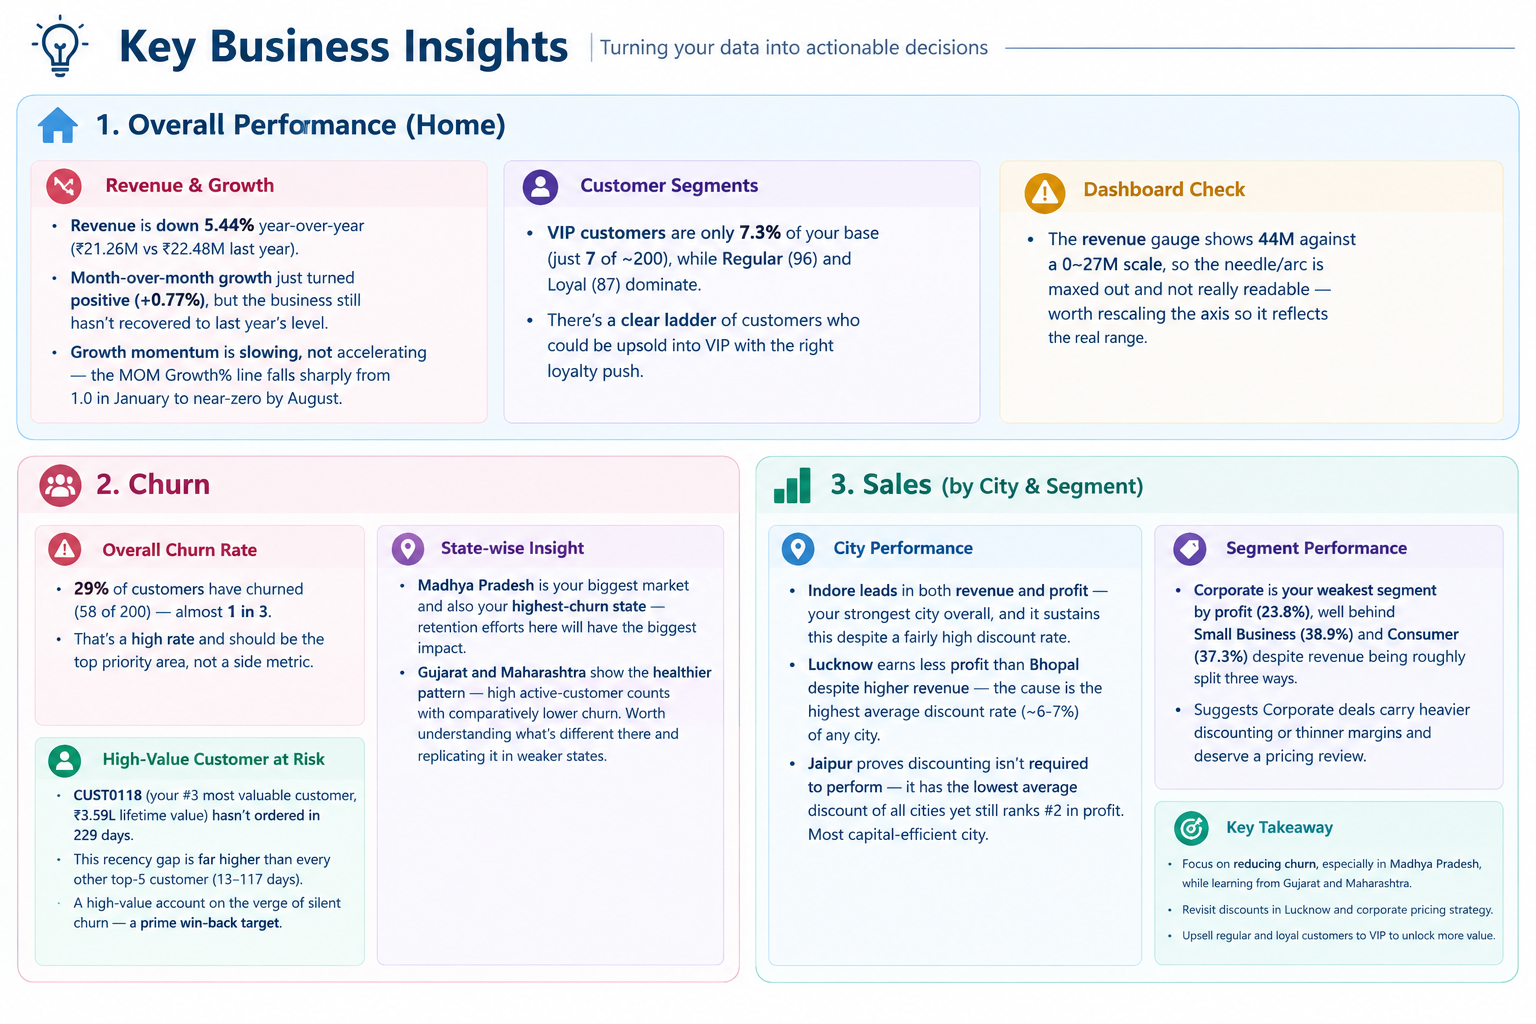

This screenshot's page, from the dashboard's own definition file:
{"tool":"powerbi","page":{"name":"insights","canvas":[1280,720],"ordinal":4},"visuals":[{"type":"image","box":[8.6,12.3,1271.2,708],"z":0}]}

Visuals, with their boxes on the page's 1280x720 design canvas (x1, y1, x2, y2). These are canvas units, not pixel positions in the 1536x1024 screenshot, which may show the page scaled, cropped or inside an application window:
image: 9/12/1280/720
